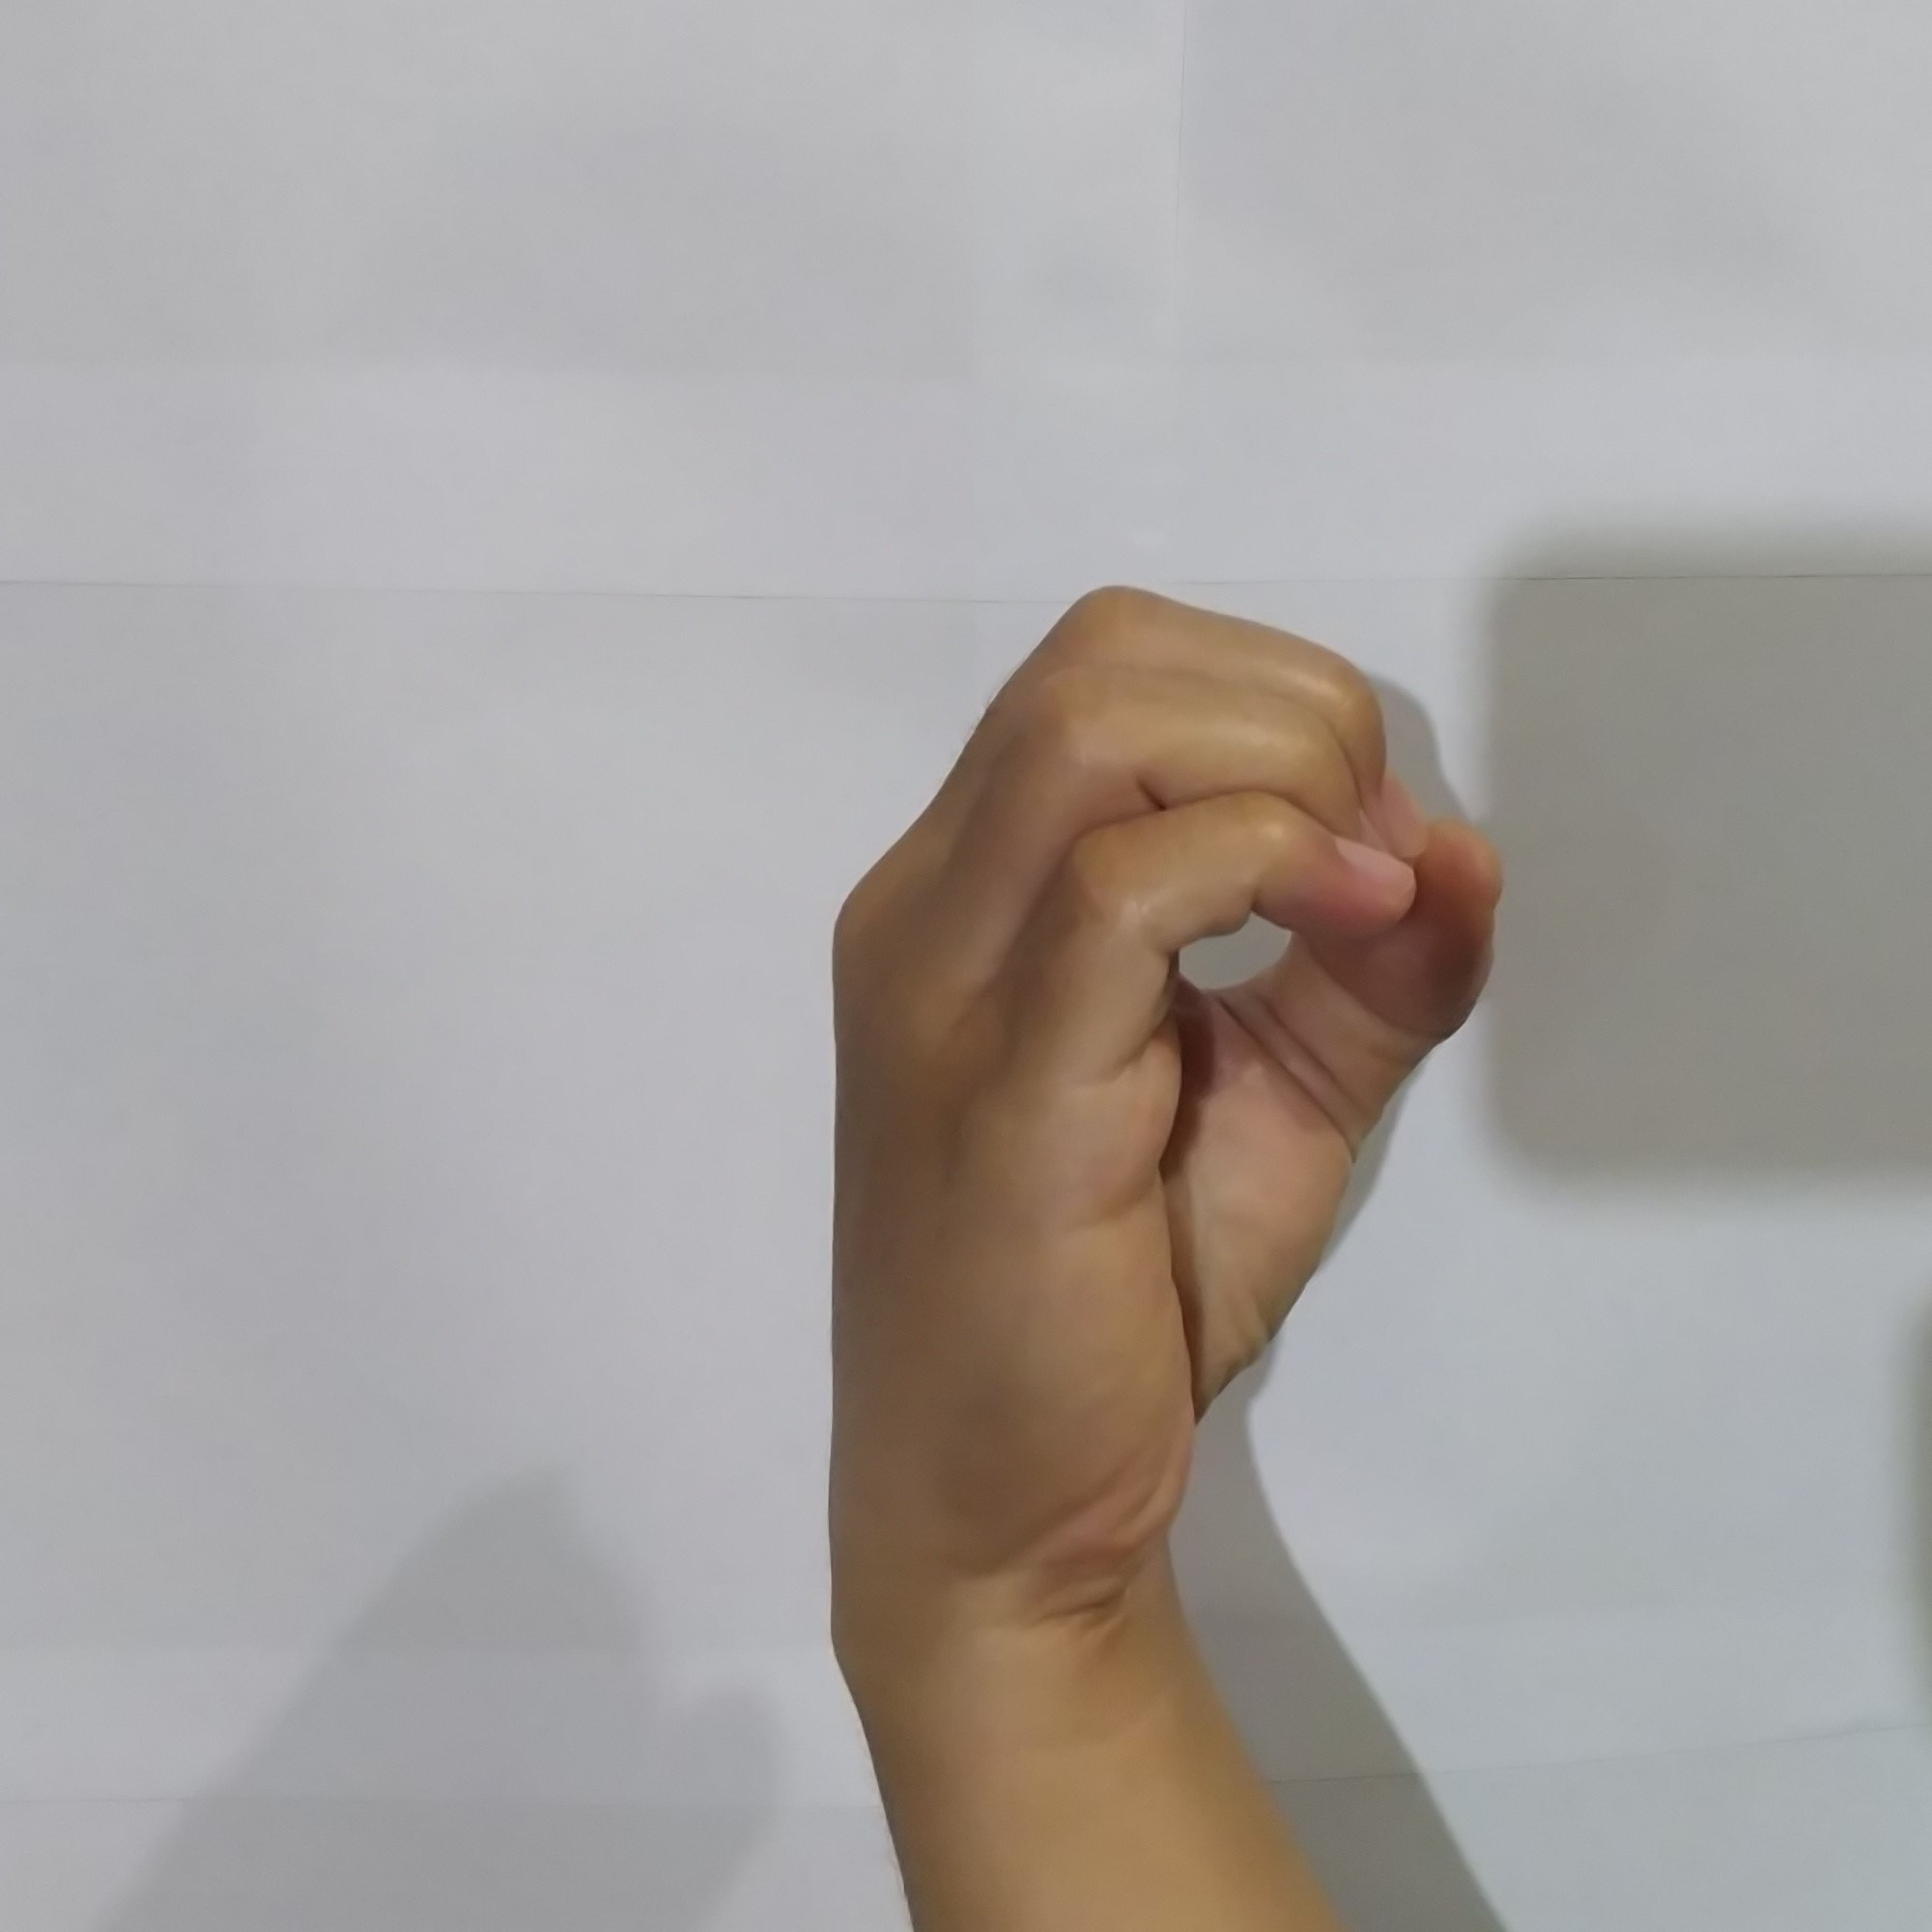O: (777, 564, 1529, 1587)
